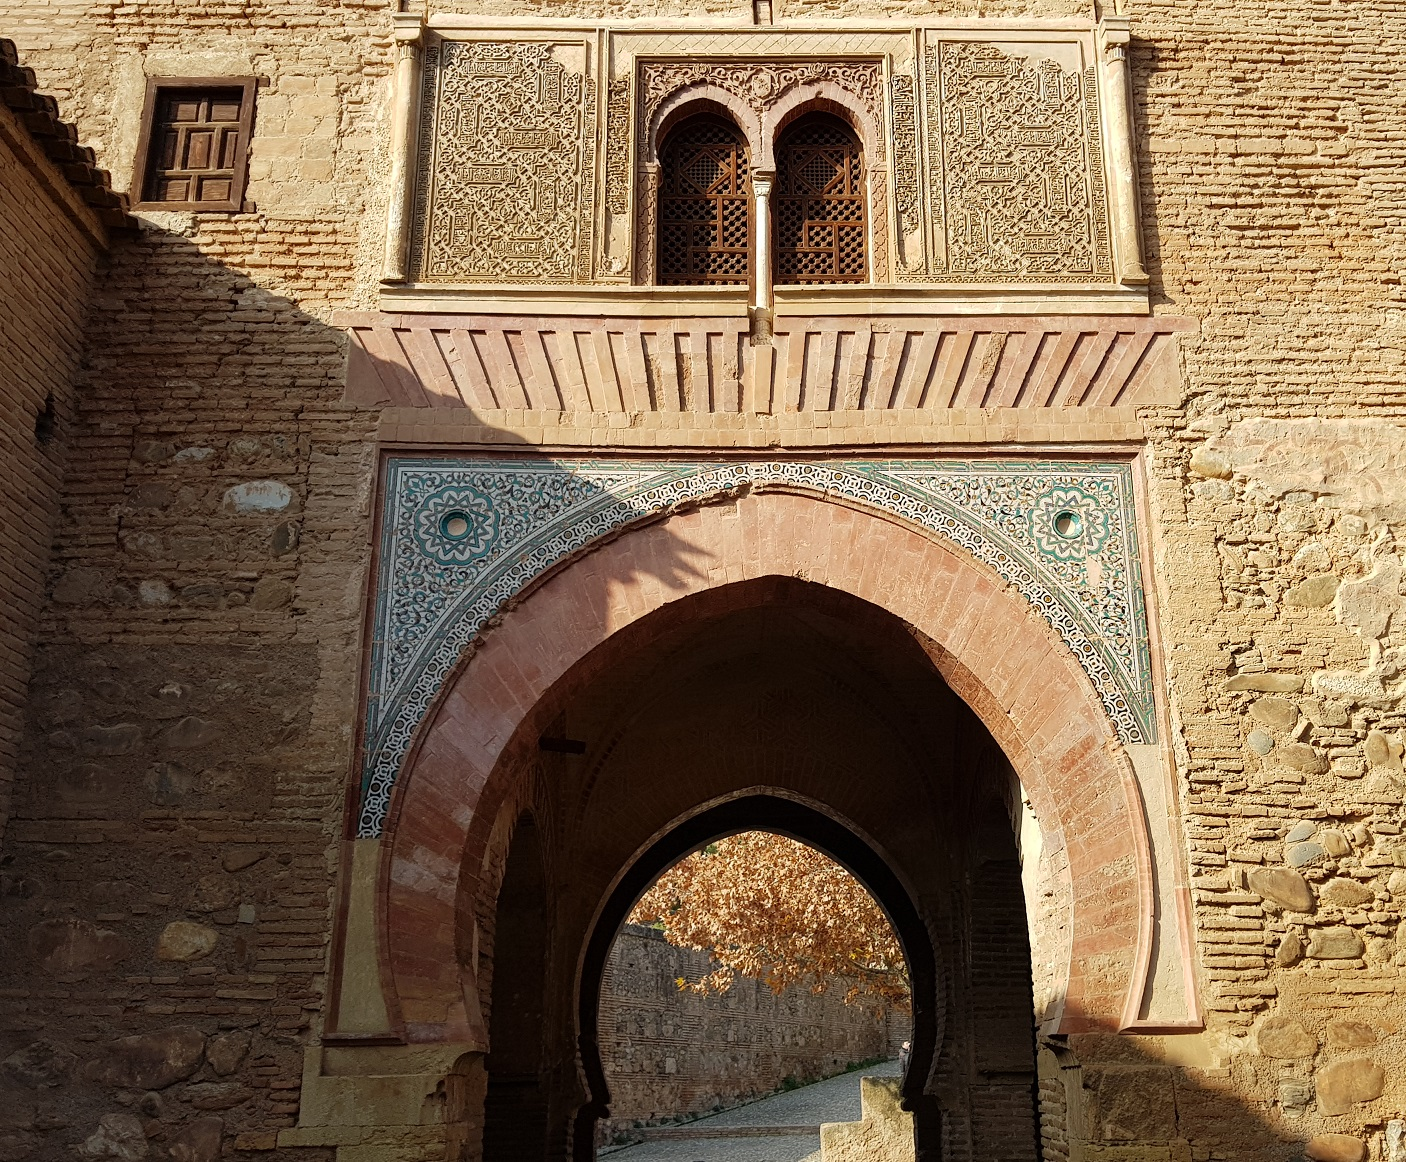arco-herradura: (398, 538, 1106, 1116), (647, 89, 763, 194), (763, 89, 876, 195)
dintel-adovelado: (343, 316, 1177, 427)
